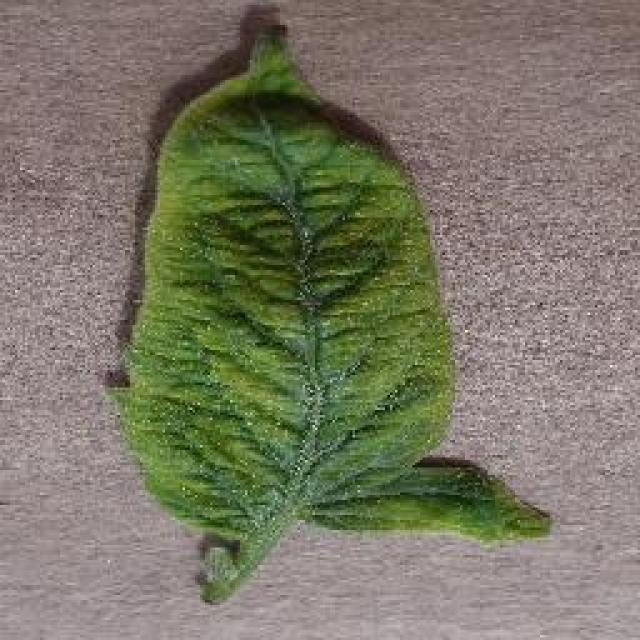Tomato yellow virus leaf: (104, 21, 548, 576)
